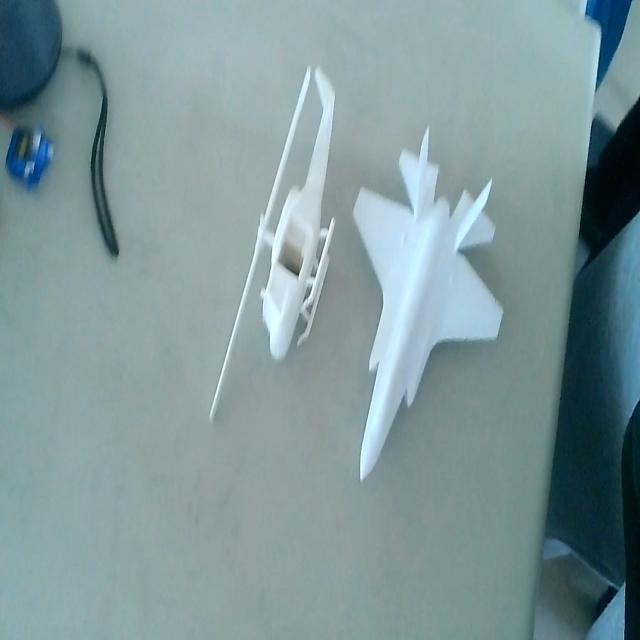Helicopter: (208, 60, 336, 430)
Jet: (349, 126, 506, 483)
